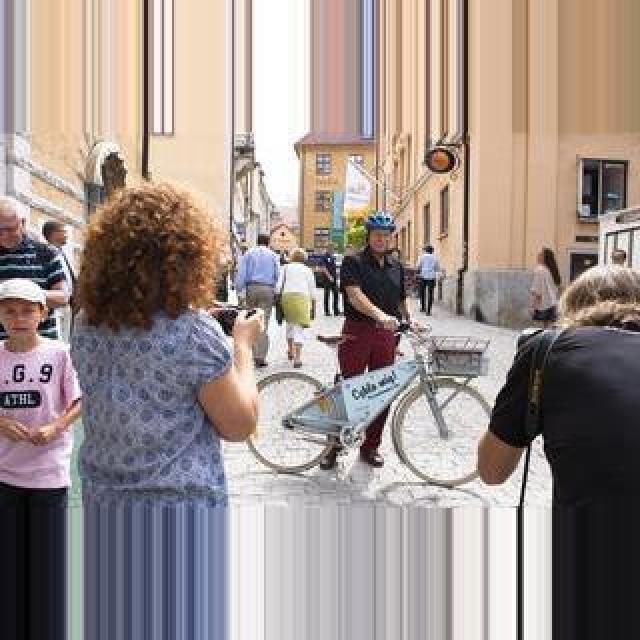MC-Bike: (65, 188, 261, 524), (476, 270, 640, 640), (0, 270, 86, 640), (336, 212, 412, 390), (0, 198, 72, 324), (236, 230, 282, 366), (276, 246, 318, 368), (526, 246, 562, 324), (416, 242, 440, 314), (312, 252, 338, 318)
Person: (248, 324, 500, 486)
